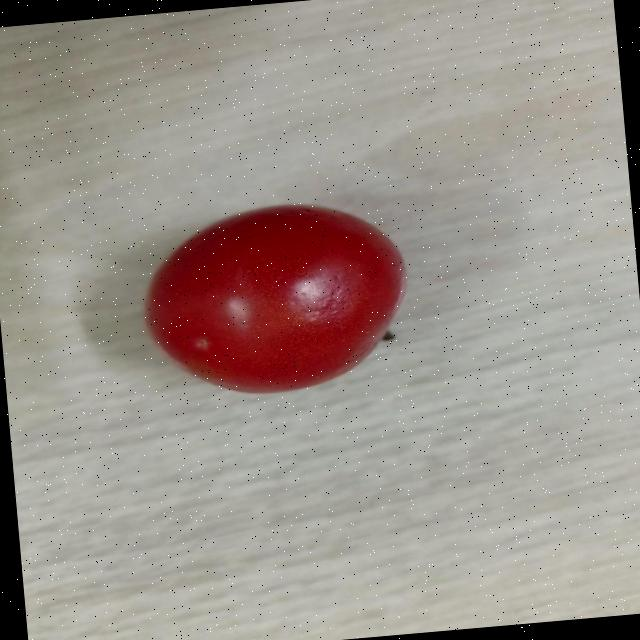Ripe: (135, 192, 422, 406)
